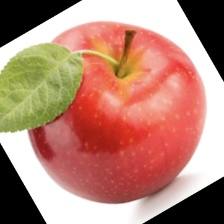apple: (19, 65, 198, 200)
